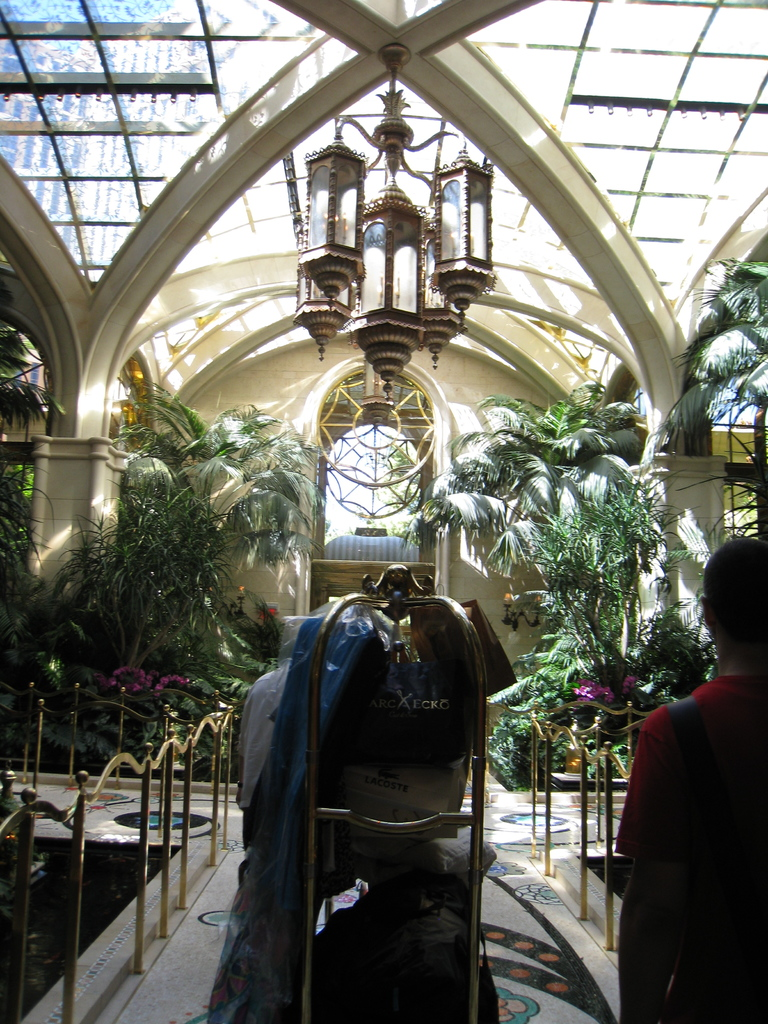Tree: (413, 396, 665, 667), (653, 254, 767, 536), (142, 385, 289, 522), (0, 261, 48, 433)
